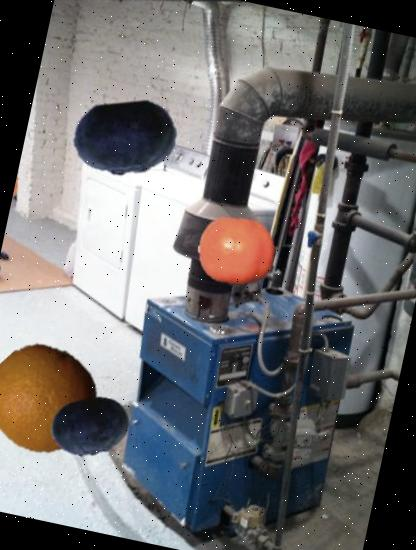Blueberry: (62, 77, 188, 202), (44, 380, 138, 474)
Clementine: (190, 206, 283, 299)
Orange: (0, 334, 107, 464)
